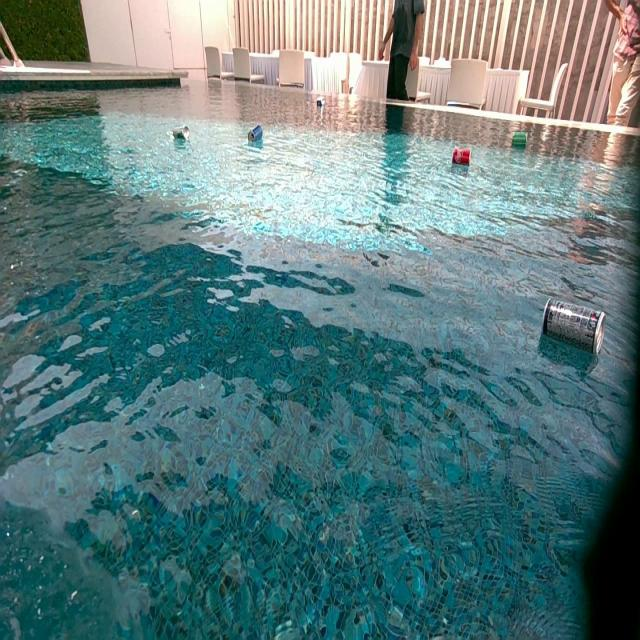Cans: (537, 297, 607, 354), (591, 310, 607, 357), (452, 150, 470, 168), (172, 125, 190, 143), (247, 126, 263, 143), (513, 131, 529, 145), (316, 98, 324, 109)
